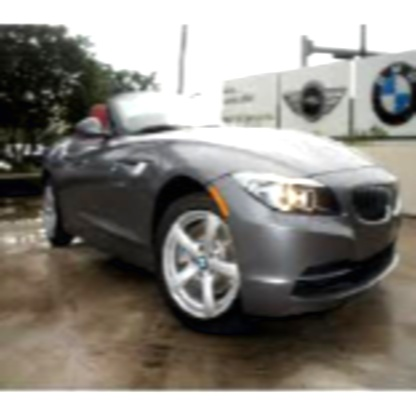Vehicle: (40, 86, 411, 336)
